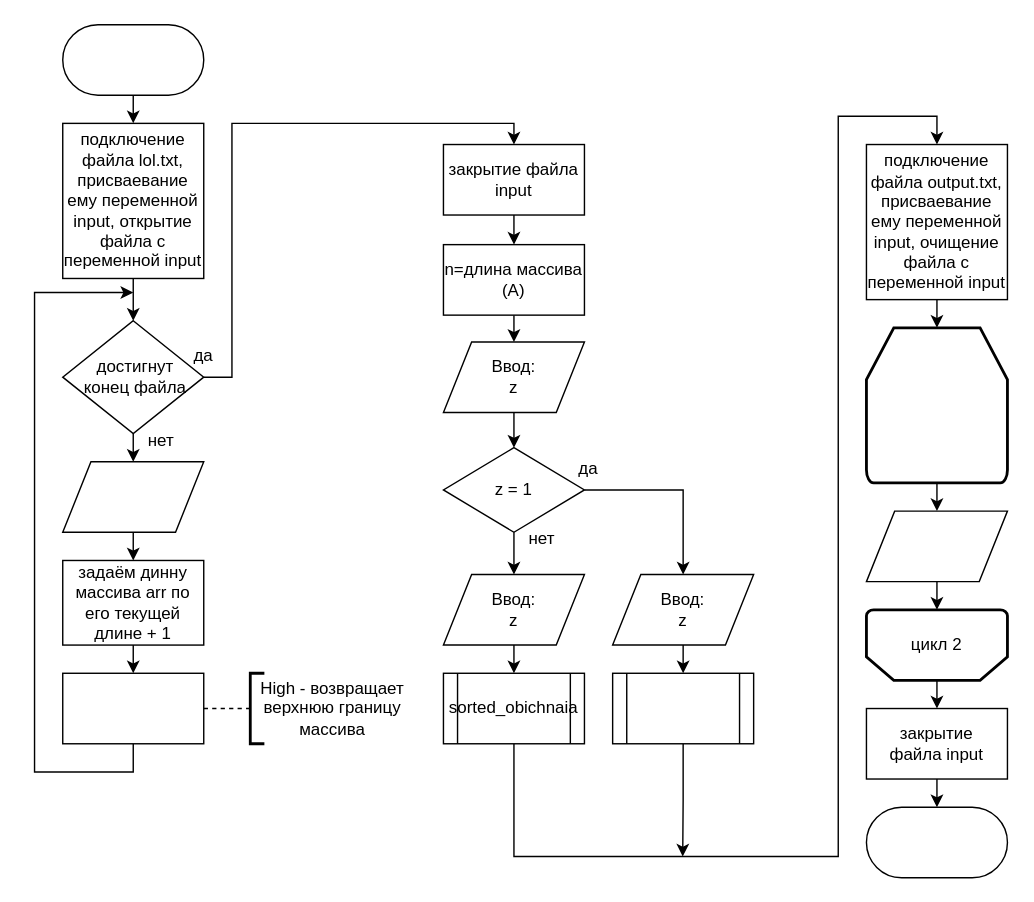
Image size: 1034x902. Some labels were removed from this diagram. Each missing label, with the centre of its shape:
"arr[High(arr)] = a" goes at point 132,708.
"sorted_piramed" goes at point 682,708.
"Ввод: a из файла input" goes at point 132,496.
"Вывод: arr[i] в файл input" goes at point 936,546.
"конец" goes at point 936,842.
"начало" goes at point 132,59.
"цикл 2 пока не достигнут конец массива i = № последного элемента массива" goes at point 936,405.
